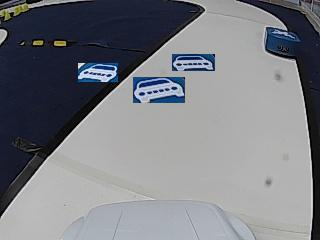prop: (265, 25, 300, 59)
